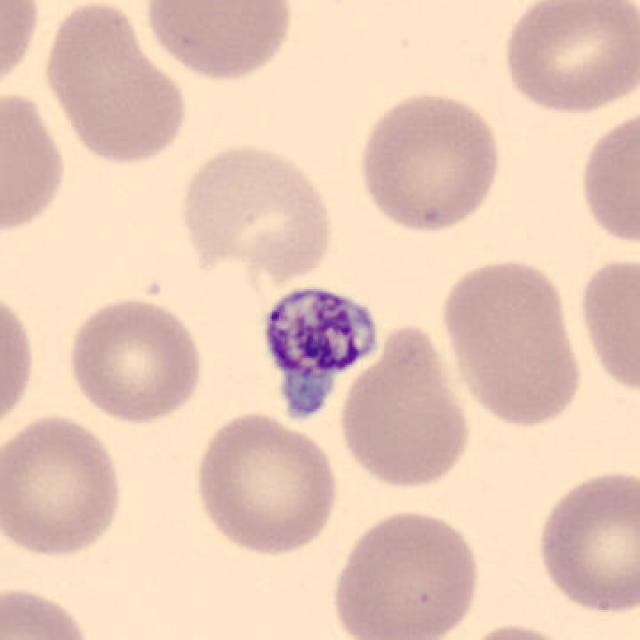Platelets: (247, 273, 391, 427)
RBC: (436, 254, 586, 432), (37, 0, 193, 169), (334, 318, 476, 496), (189, 405, 343, 559), (174, 138, 338, 282), (354, 86, 506, 236), (327, 504, 485, 640), (62, 293, 208, 427), (0, 410, 130, 560), (497, 0, 638, 116), (530, 464, 638, 615), (142, 0, 299, 85), (0, 85, 71, 238), (572, 251, 638, 398), (574, 104, 640, 250), (0, 280, 39, 441), (0, 582, 96, 640), (0, 0, 44, 100), (447, 620, 588, 640)
